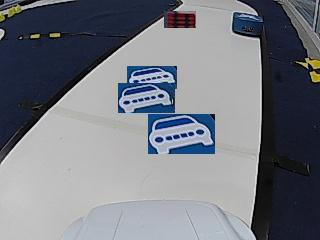prop: (232, 12, 263, 37)
